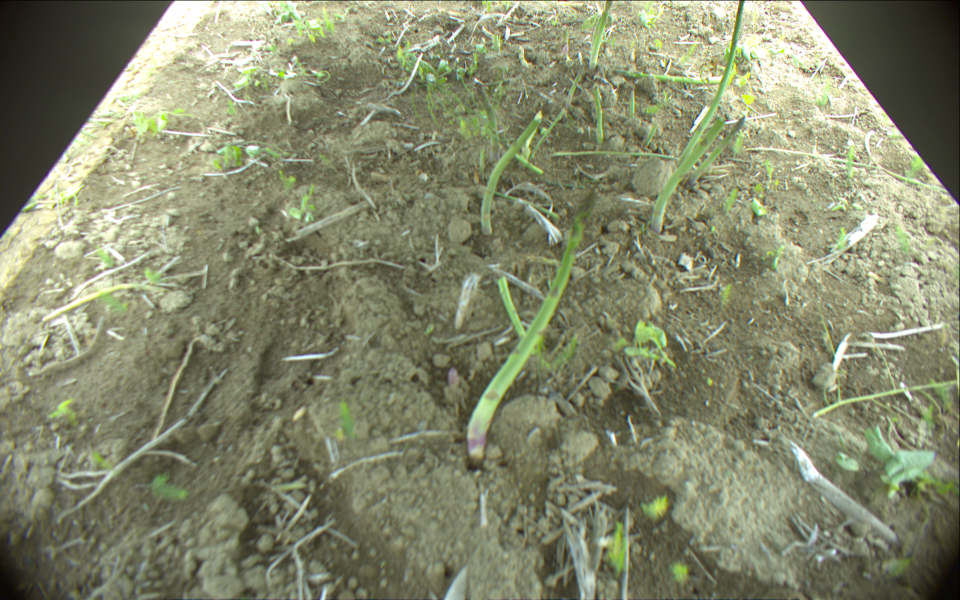aspa: (467, 219, 584, 462), (676, 1, 744, 164), (650, 118, 722, 234), (482, 111, 544, 233), (42, 284, 167, 319), (689, 117, 744, 185), (613, 69, 735, 85), (498, 275, 526, 340), (554, 150, 675, 163), (589, 1, 612, 68), (566, 66, 584, 111), (593, 84, 604, 141), (516, 153, 542, 174), (561, 30, 571, 60), (629, 90, 636, 120)
